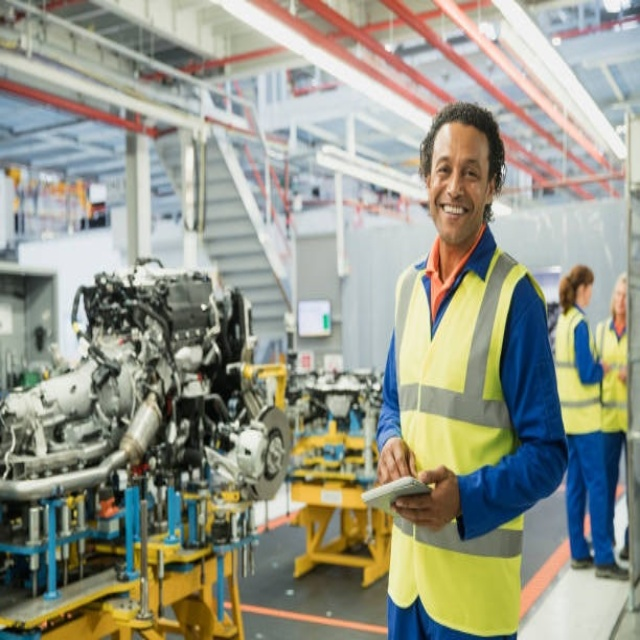Sin_gafas: (433, 146, 483, 187)
Sin_guantes: (387, 463, 460, 533), (375, 435, 422, 501)
Sin_mascara: (434, 195, 473, 232)
